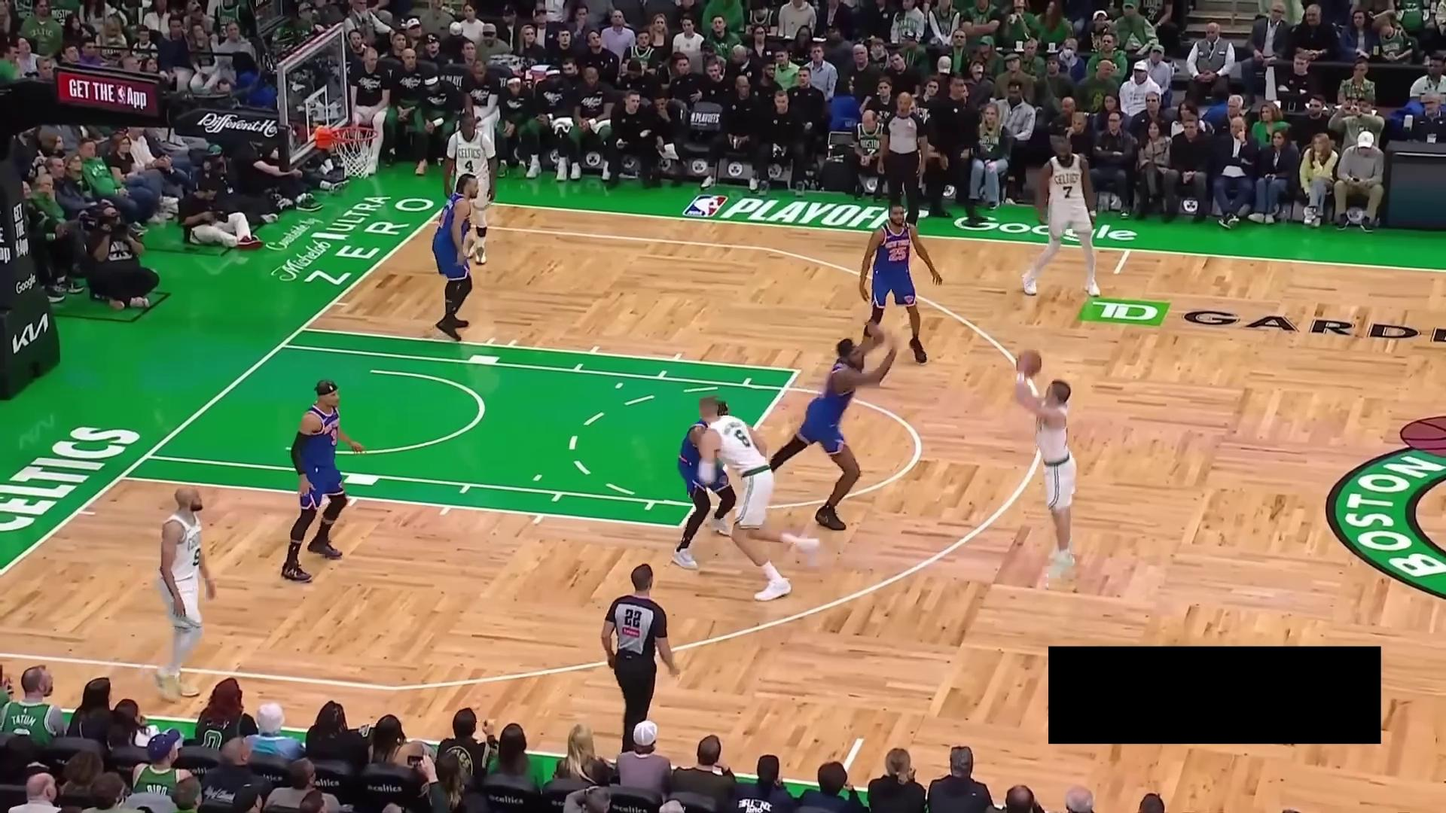ball: (1014, 347, 1042, 378)
number: (887, 245, 907, 263), (734, 429, 751, 449), (329, 426, 341, 447), (192, 545, 202, 567), (1062, 184, 1074, 200), (464, 158, 474, 173)
player: (697, 396, 820, 601), (279, 373, 365, 585), (857, 207, 949, 363), (154, 477, 216, 703), (1022, 137, 1102, 304), (670, 397, 736, 569), (442, 110, 501, 268), (431, 172, 478, 341)
player-jump-shot: (1008, 345, 1095, 586)
player-shot-block: (761, 318, 906, 538)
referee: (597, 562, 691, 754), (877, 89, 929, 232)
rim: (329, 123, 384, 143)
